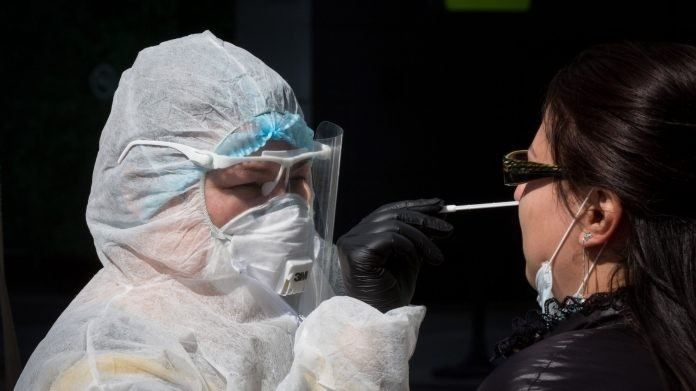Face_Shield: (113, 125, 344, 306)
with_mask: (219, 169, 315, 299)
